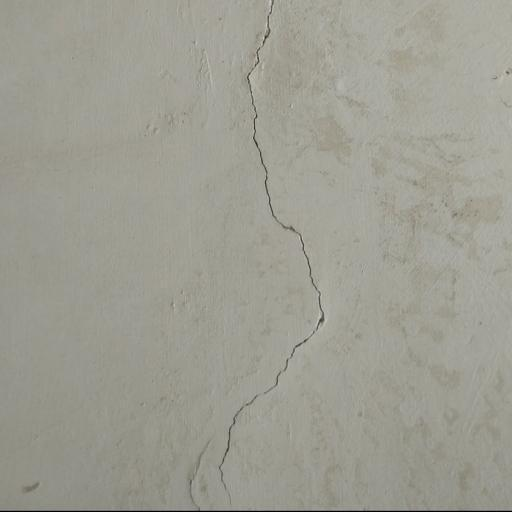major_crack: (180, 0, 331, 512)
